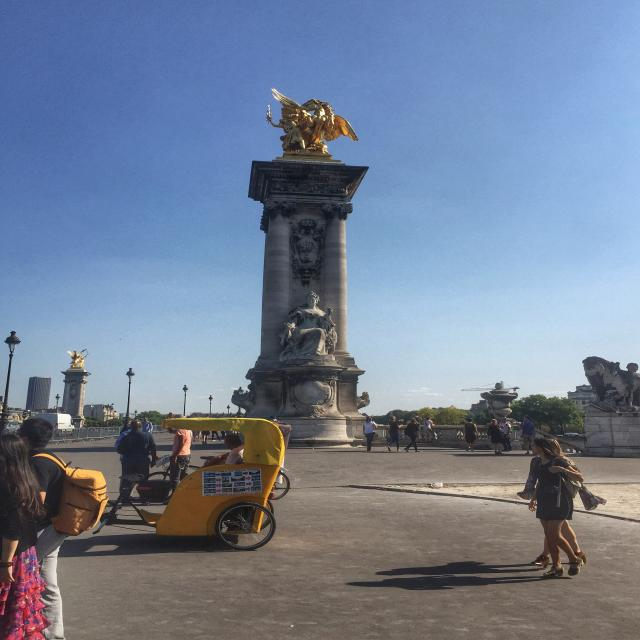body: (12, 416, 111, 640), (0, 430, 53, 639), (342, 556, 581, 594), (518, 439, 588, 568), (527, 436, 587, 578), (280, 288, 337, 358), (116, 419, 158, 507), (116, 420, 158, 502), (587, 358, 640, 416), (163, 411, 194, 502), (312, 447, 554, 458), (262, 111, 306, 161), (203, 433, 245, 468), (190, 427, 242, 445), (402, 417, 422, 453), (519, 415, 536, 455), (386, 415, 404, 452), (486, 419, 504, 455), (362, 416, 379, 452), (462, 417, 479, 452), (499, 417, 514, 452), (422, 416, 435, 444), (414, 412, 423, 443), (119, 419, 133, 434), (494, 422, 506, 439), (141, 417, 153, 433), (77, 352, 89, 368), (270, 415, 280, 422), (131, 418, 139, 421)
